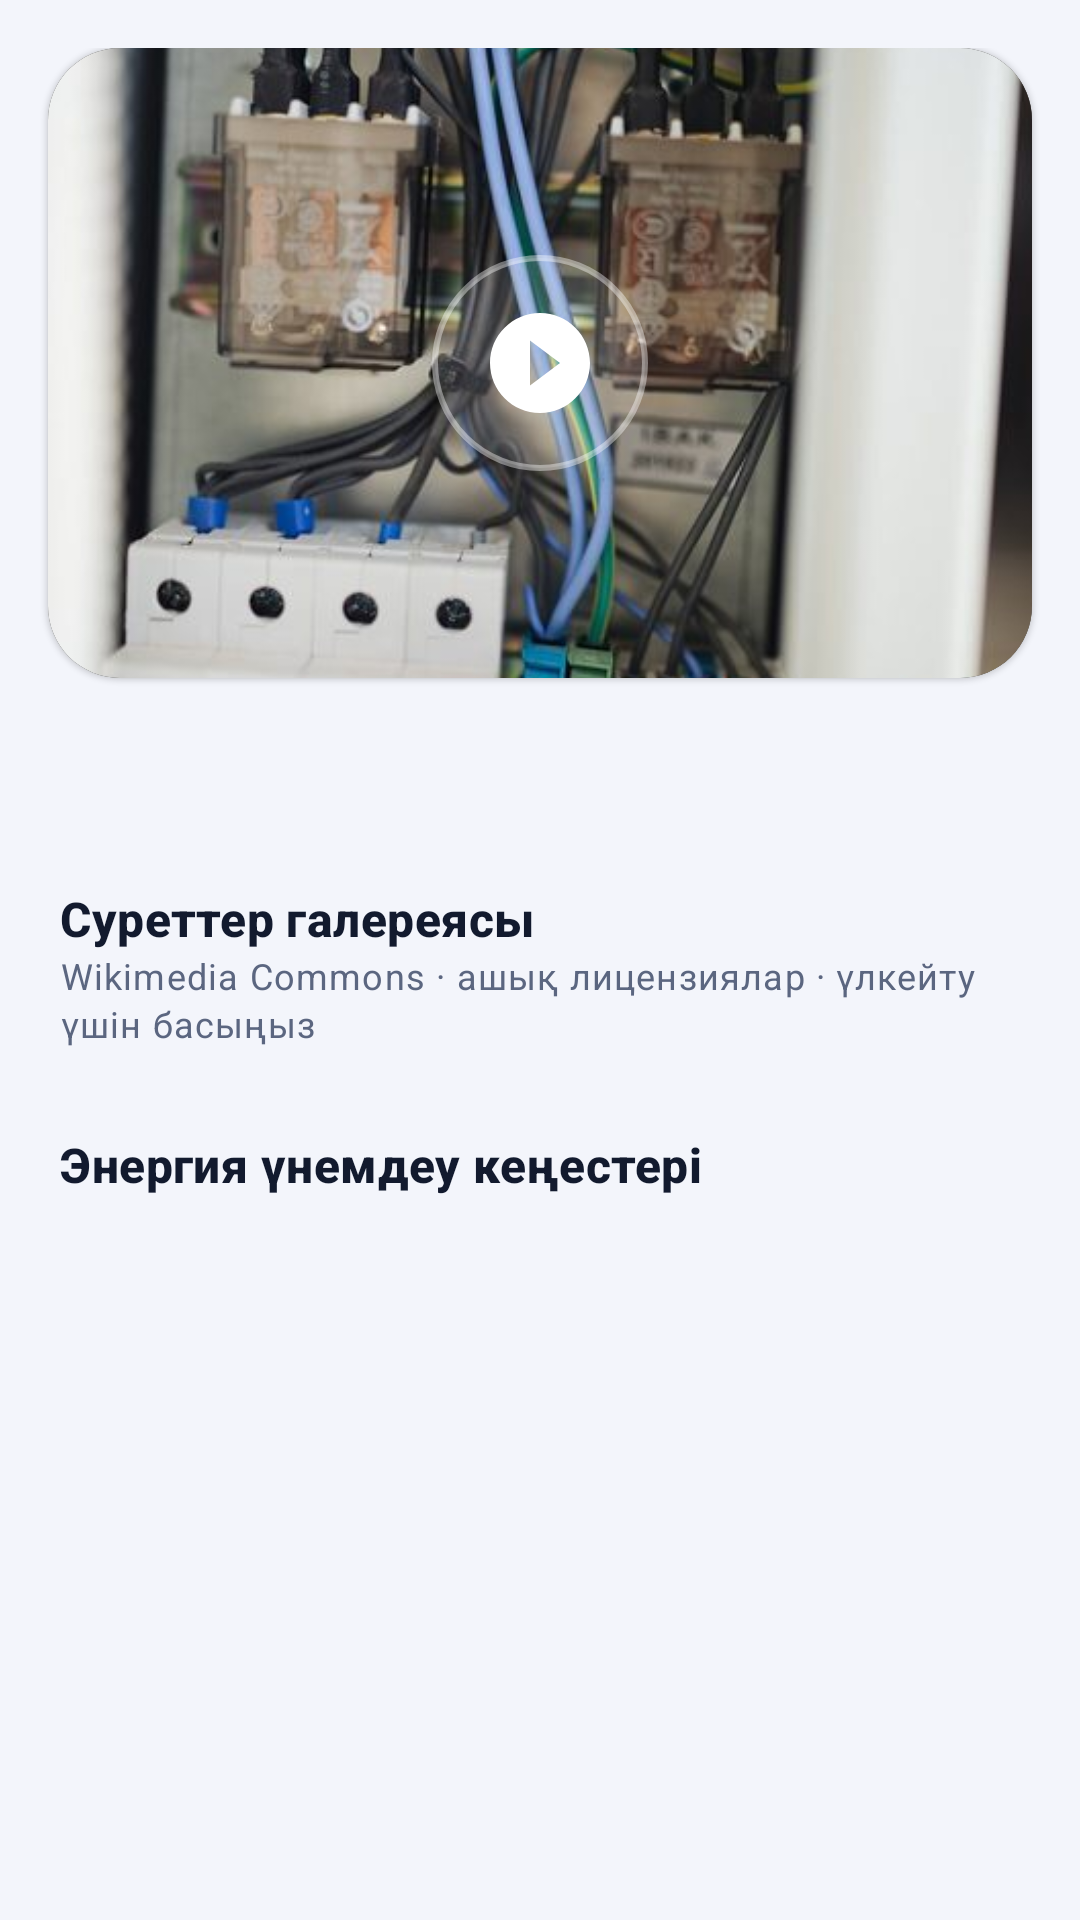

Where to tap for icons on this 1080px×1920px app screen, as [x,y]:
Ойнату: [540,363]
